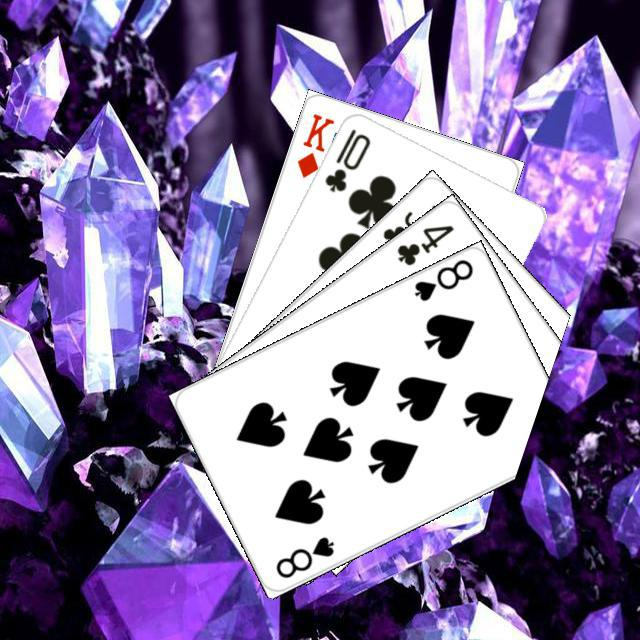10c: (319, 124, 372, 194)
4c: (392, 219, 456, 268)
8s: (409, 254, 475, 303), (270, 531, 336, 580)
Jc: (378, 199, 441, 251)
Kd: (292, 108, 336, 180)
